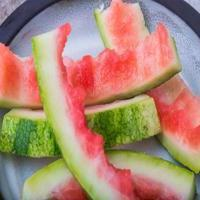biodegradable: (30, 22, 142, 200), (0, 21, 182, 109), (0, 93, 162, 159)
